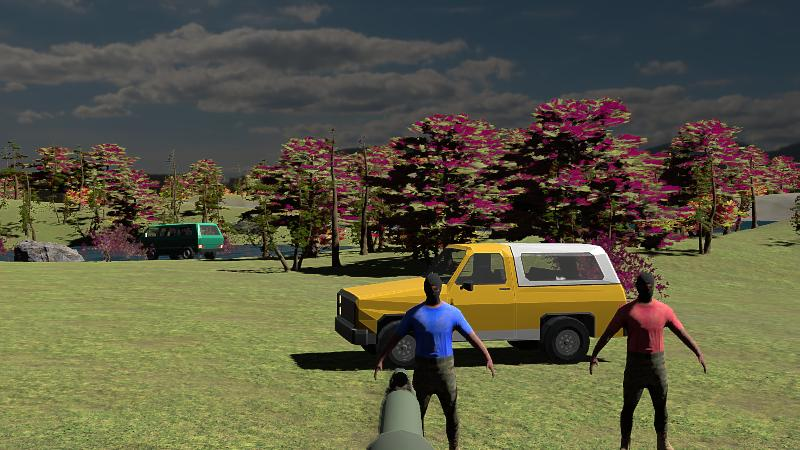Human: (375, 269, 495, 448), (589, 270, 707, 449)
car: (333, 239, 631, 363), (143, 221, 223, 260)
